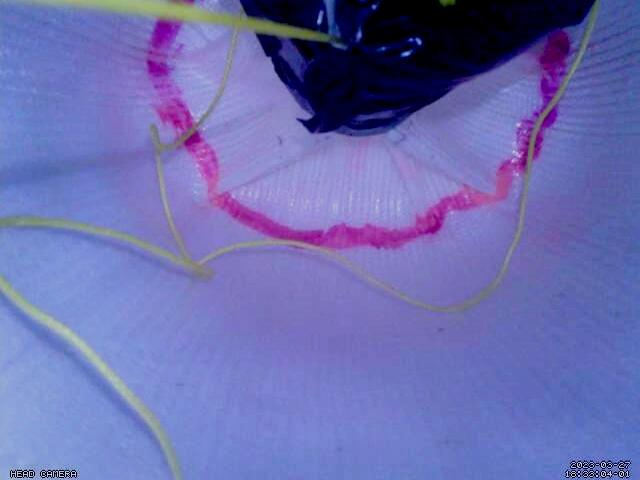head: (144, 17, 573, 250)
